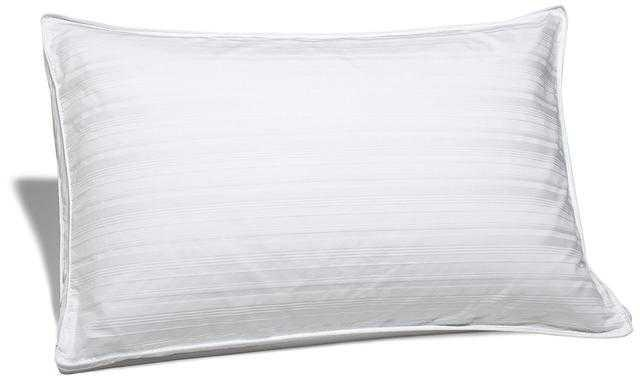pillow: (40, 3, 632, 372)
